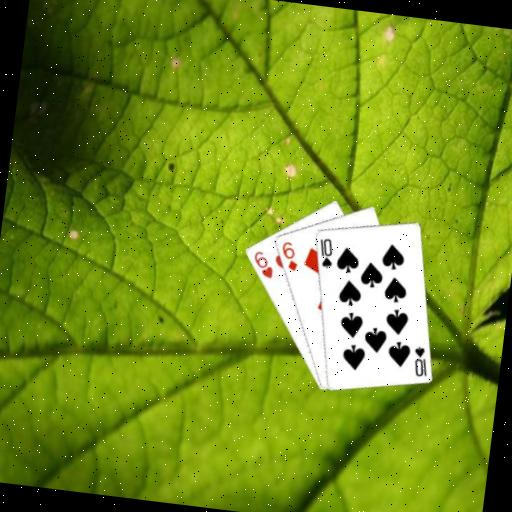10S: (409, 342, 432, 379), (314, 235, 337, 271)
6D: (276, 238, 302, 273)
6H: (248, 248, 277, 281)
